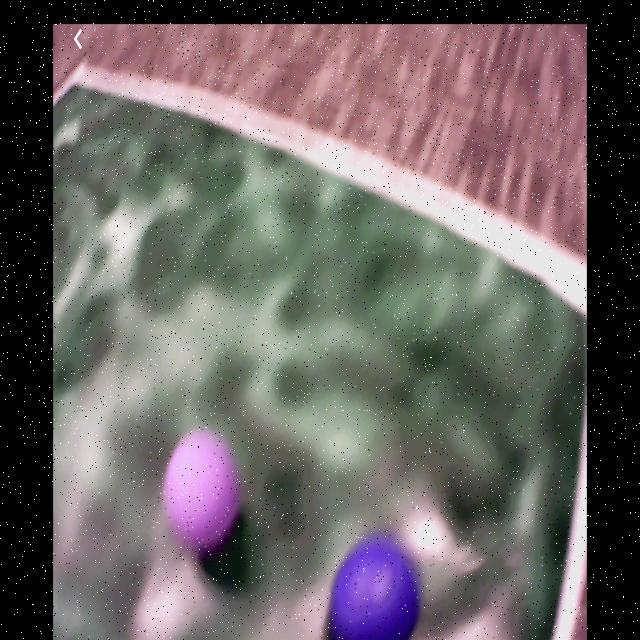ball: (331, 547, 420, 640), (166, 431, 238, 545)
